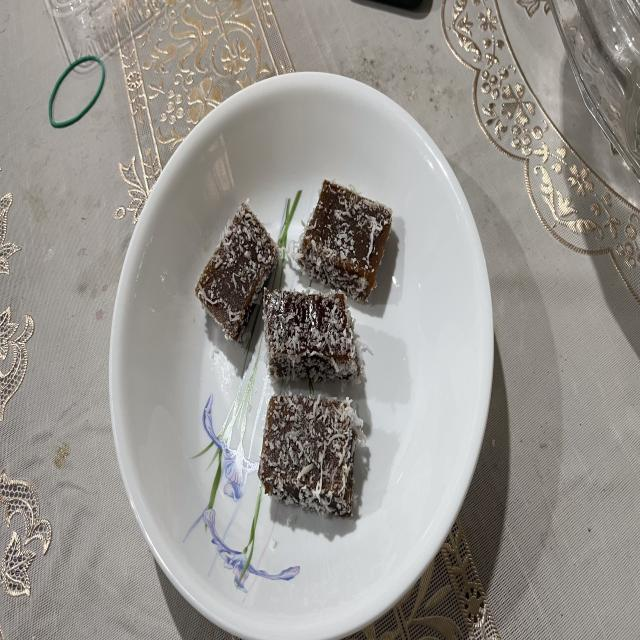kaswi: (259, 396, 365, 518), (295, 180, 391, 302), (195, 202, 278, 340), (264, 289, 362, 382)
